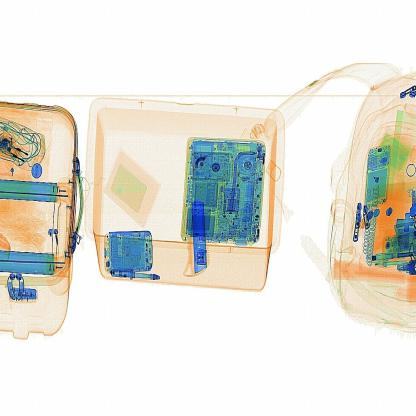pliers: (190, 198, 209, 279)
